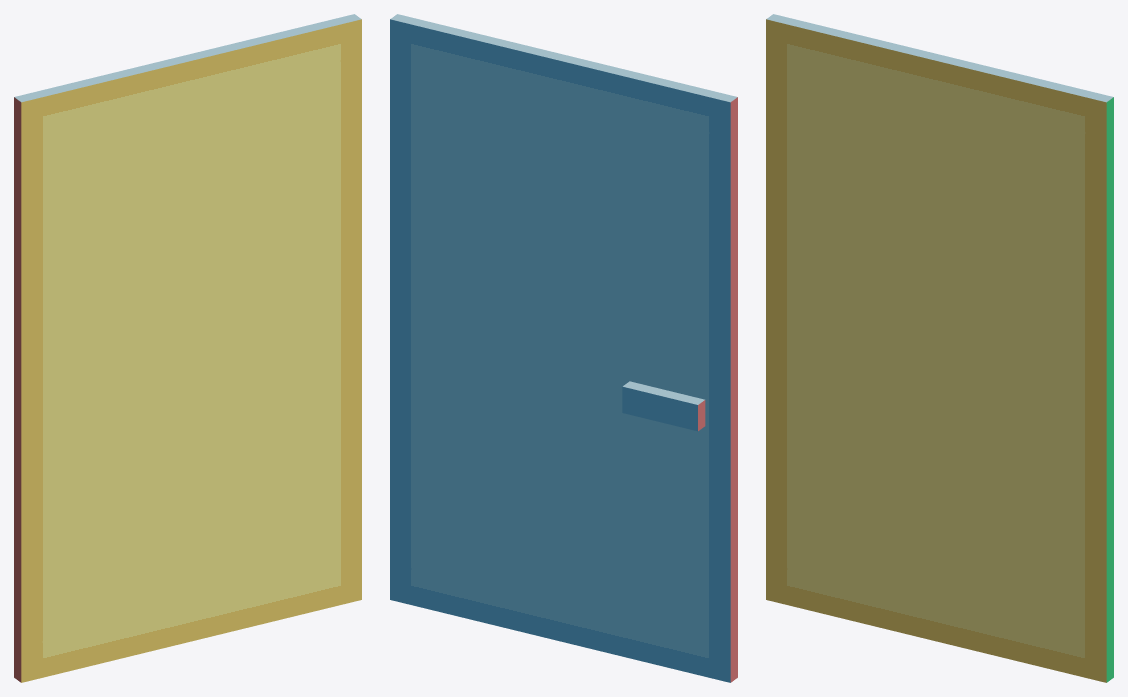
Rendered from door1.fbx.
The picture shows the model from 3 angles, left to right: view 1: azimuth 30°, elevation 25°; view 2: azimuth 150°, elevation 25°; view 3: azimuth 330°, elevation 25°; orthographic projection.
Visible parts, largest first — view 1: cube; view 2: cube, cube_1; view 3: cube.
Boxes of the visible parts, <box> form: cube: <box>14,14,361,682</box>; cube: <box>390,14,737,682</box>; cube_1: <box>622,381,705,431</box>; cube: <box>766,14,1113,682</box>.
Bounding box in the file's own units: 169 × 275 × 12.5.
1 material, 1 textured.
